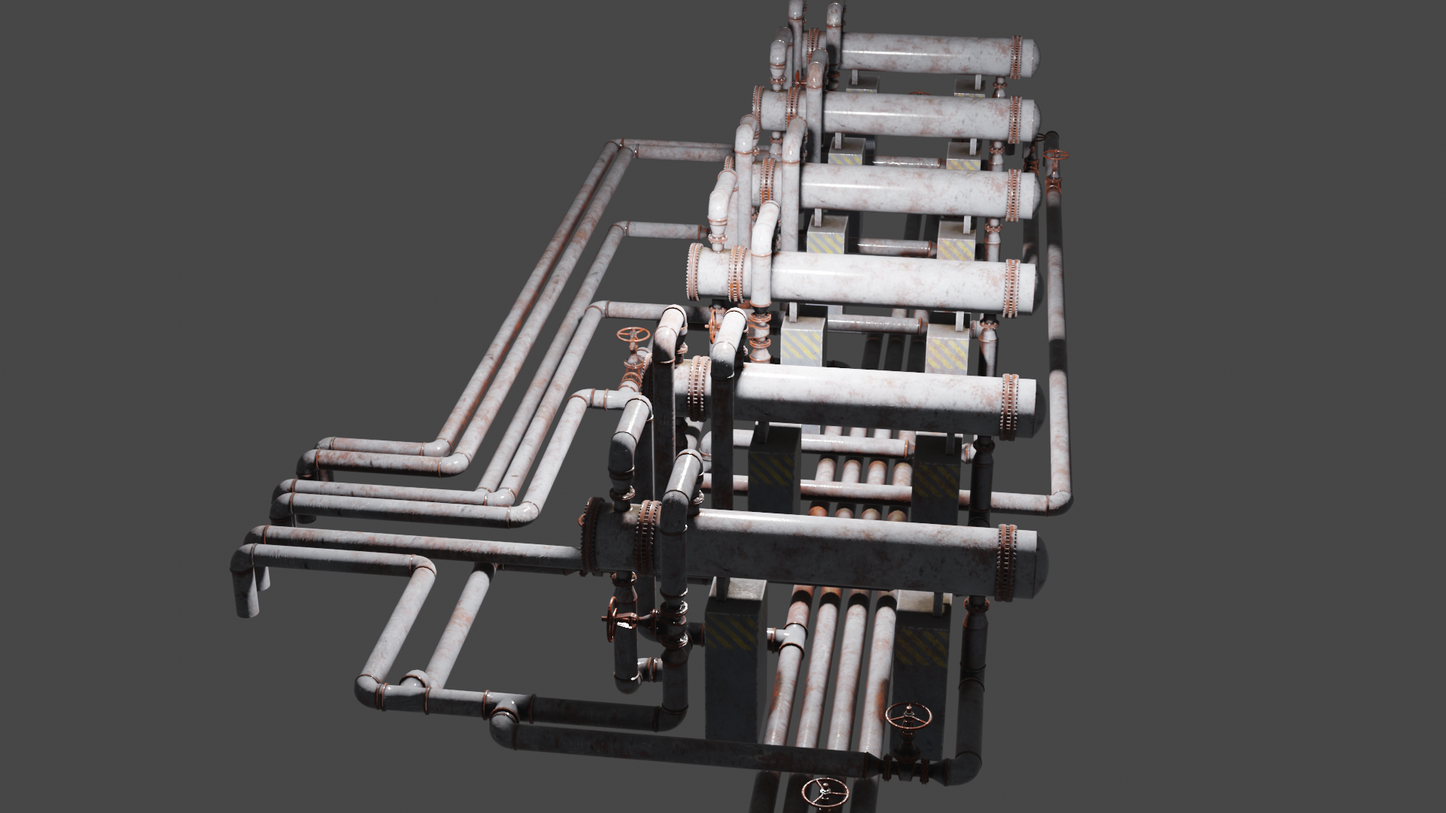HE_1: (783, 31, 1043, 77)
HE_2: (754, 87, 1044, 143)
HE_3: (730, 153, 1037, 219)
HE_4: (685, 240, 1044, 312)
HE_5: (641, 348, 1050, 442)
HE_6: (581, 494, 1048, 595)
